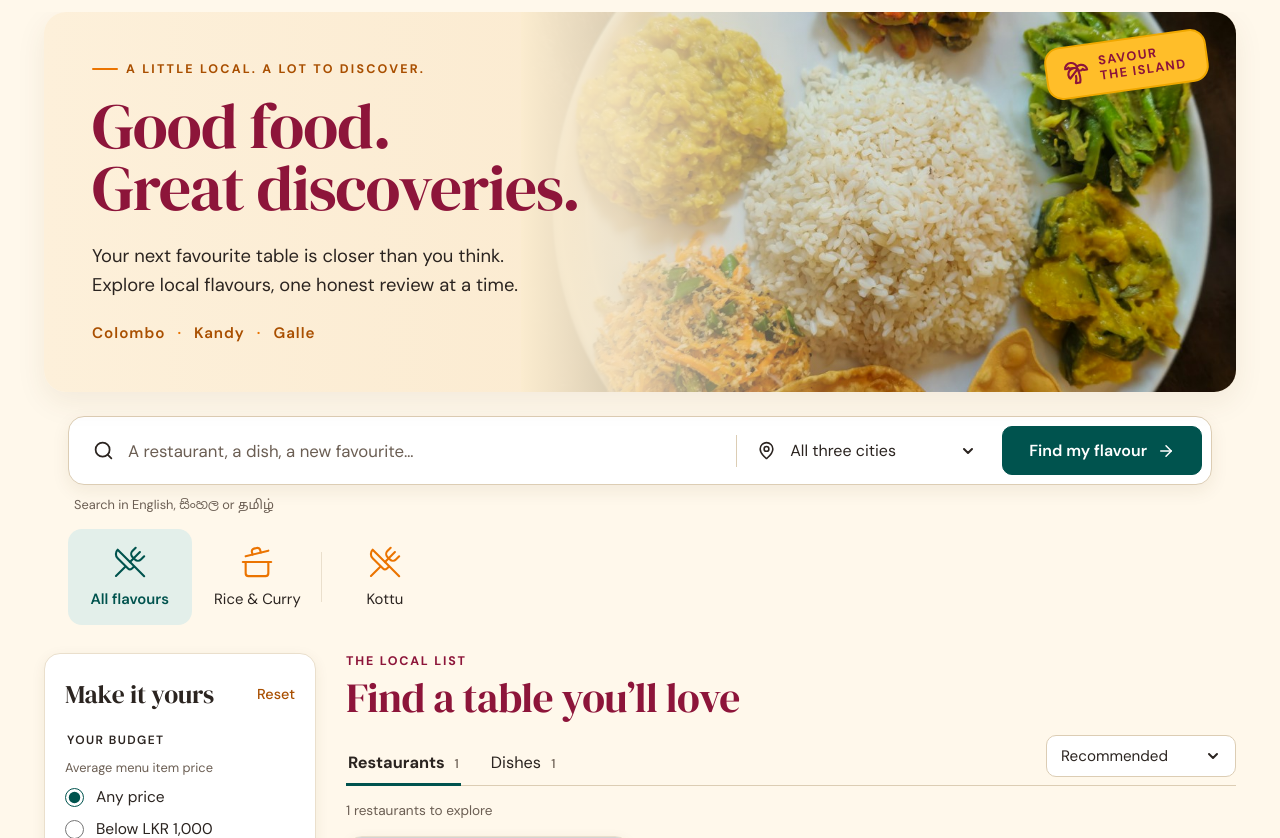
it: Explore search and filters › switches between restaurant and dish results without refetching
The width and height of the screenshot is (1280, 838).
Check: the text "1 restaurants to explore" is shown, box [346,802,492,819]
Click the button "Dishes 1".
click(523, 765)  # box [489,744,558,786]
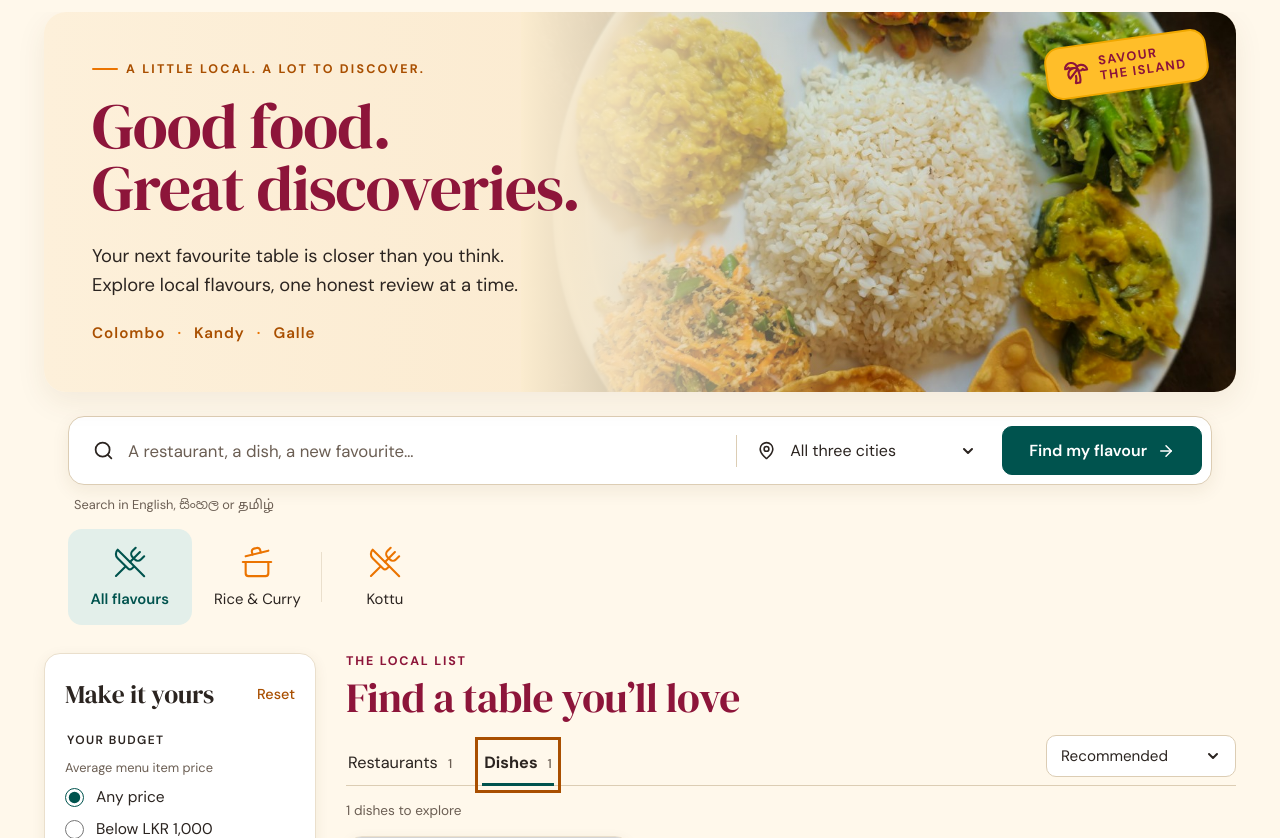
Check: the text "1 dishes to explore" is shown, box [346,802,462,819]
